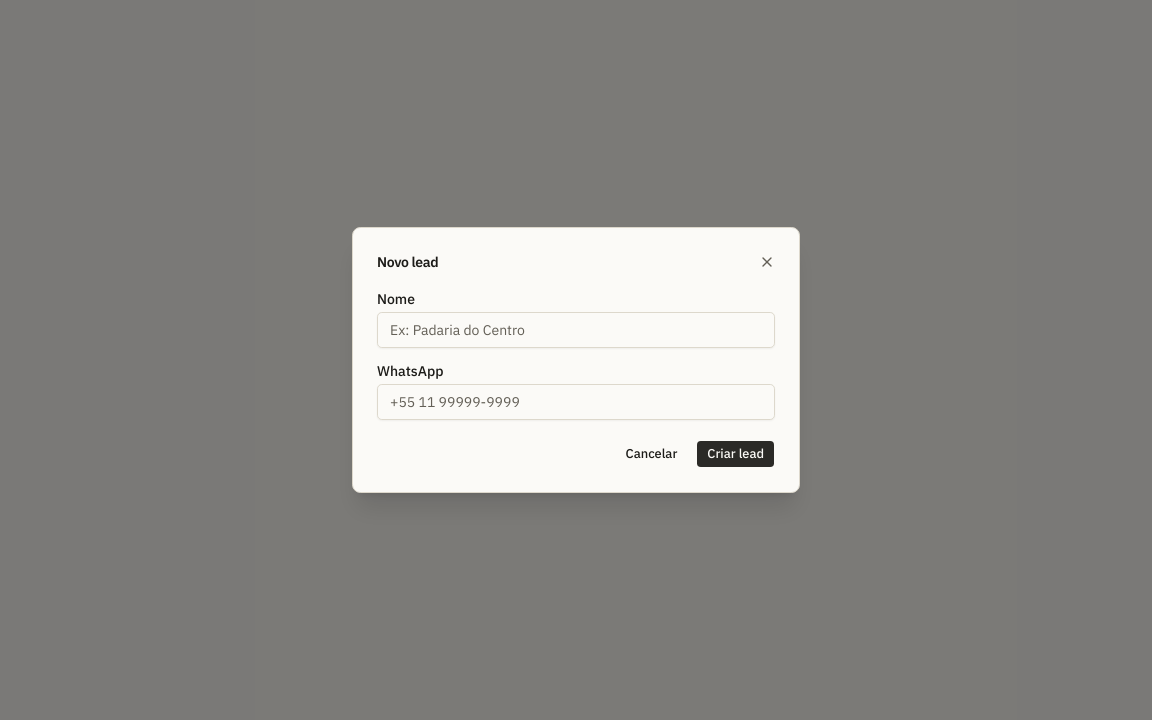
Test case: B48-18 — Rótulos padronizados › CA-B48-45: o Novo lead pede nome e depois WhatsApp, e o nome é obrigatório (C-03)
Type "11999990000" into the field labelled "WhatsApp". click: point(576, 402)
box: [377, 384, 775, 420]
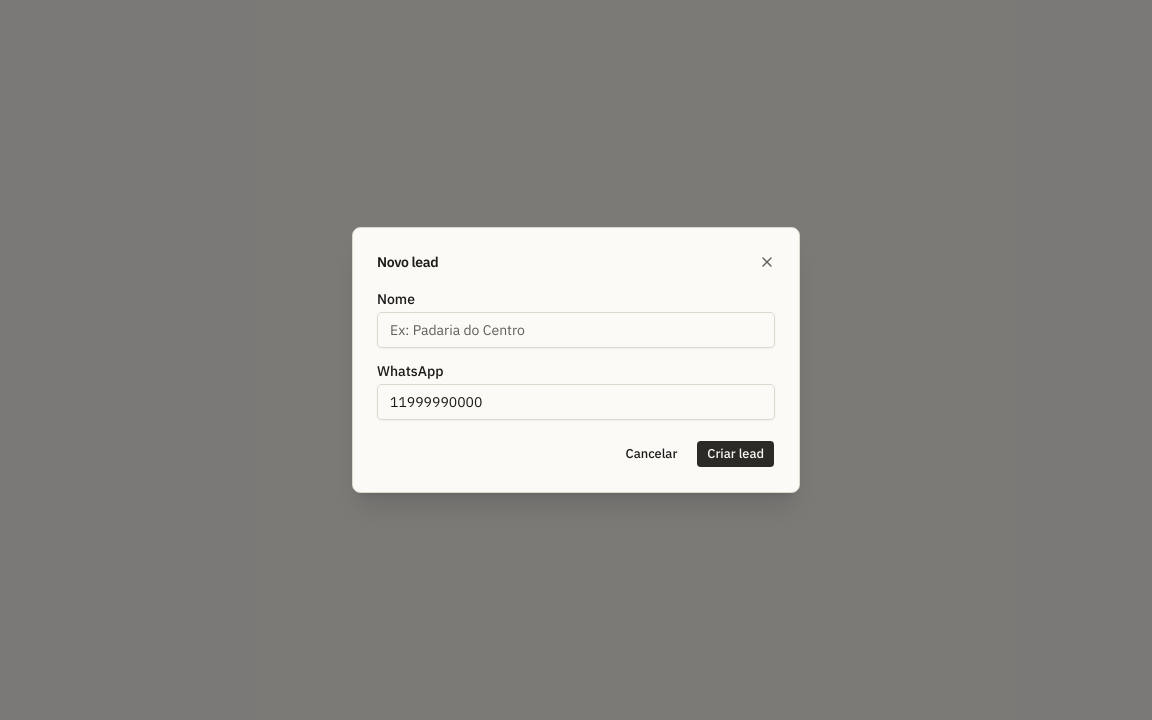
Click the button "Criar lead". click: point(736, 454)
box: [696, 440, 775, 468]
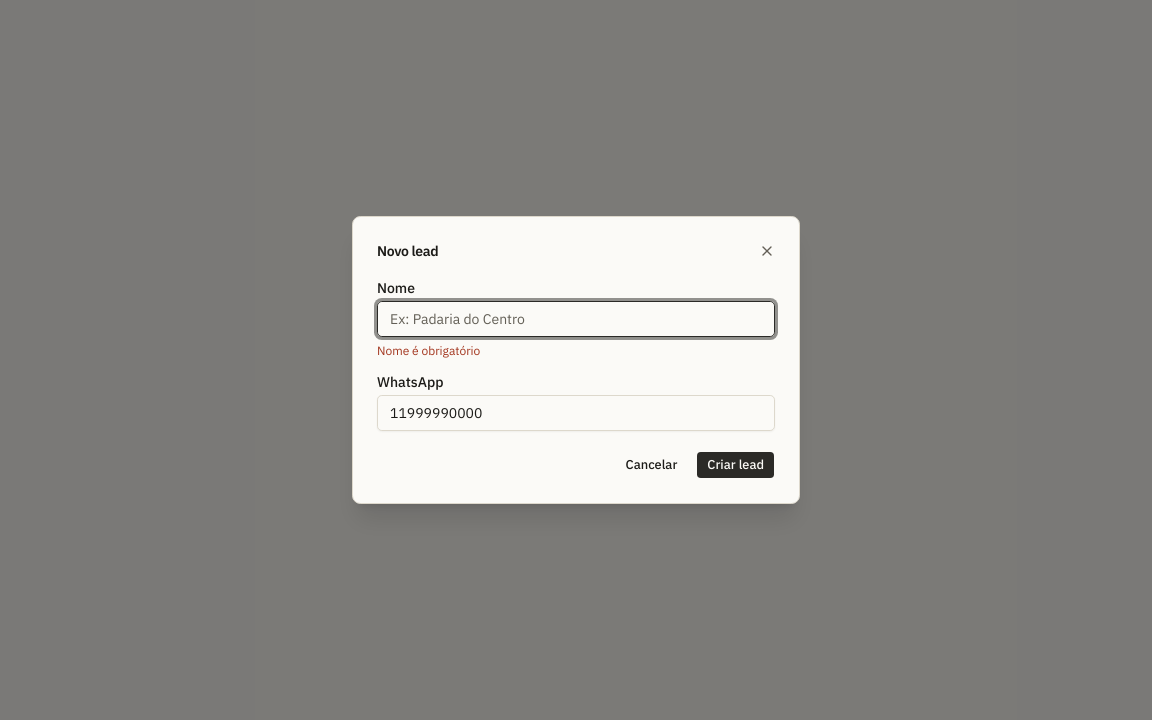
expect the text "Nome é obrigatório" is shown: met, box [377, 343, 480, 358]
